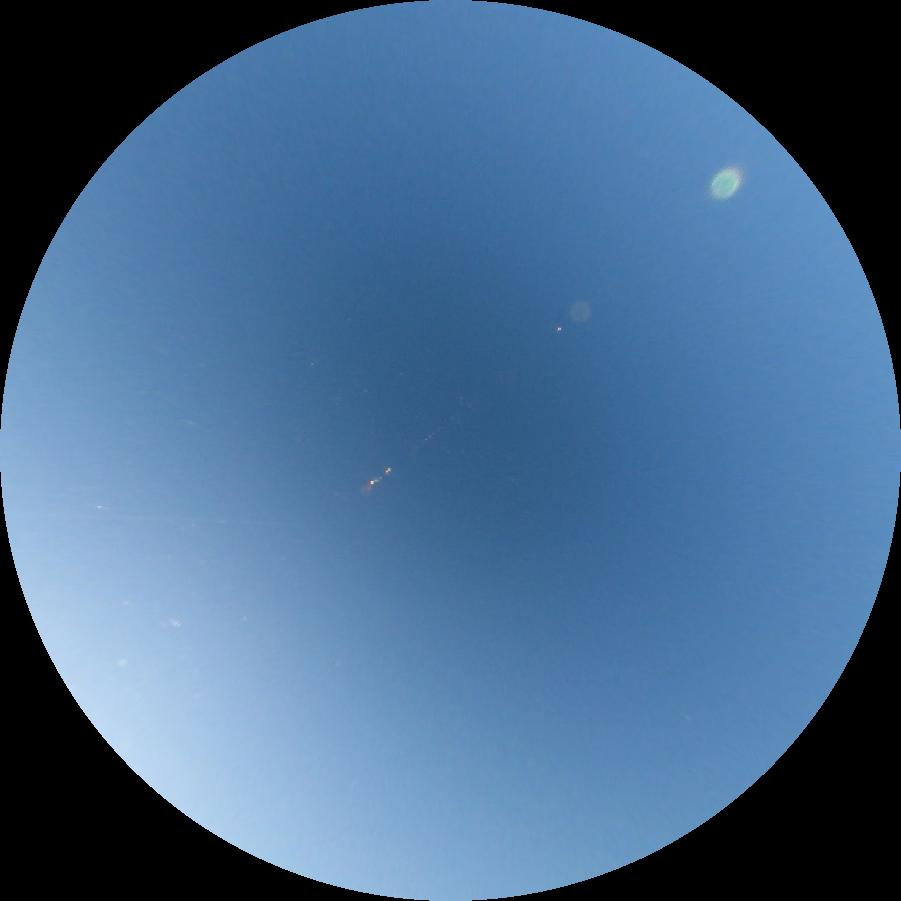parasite: (5, 514, 283, 525)
